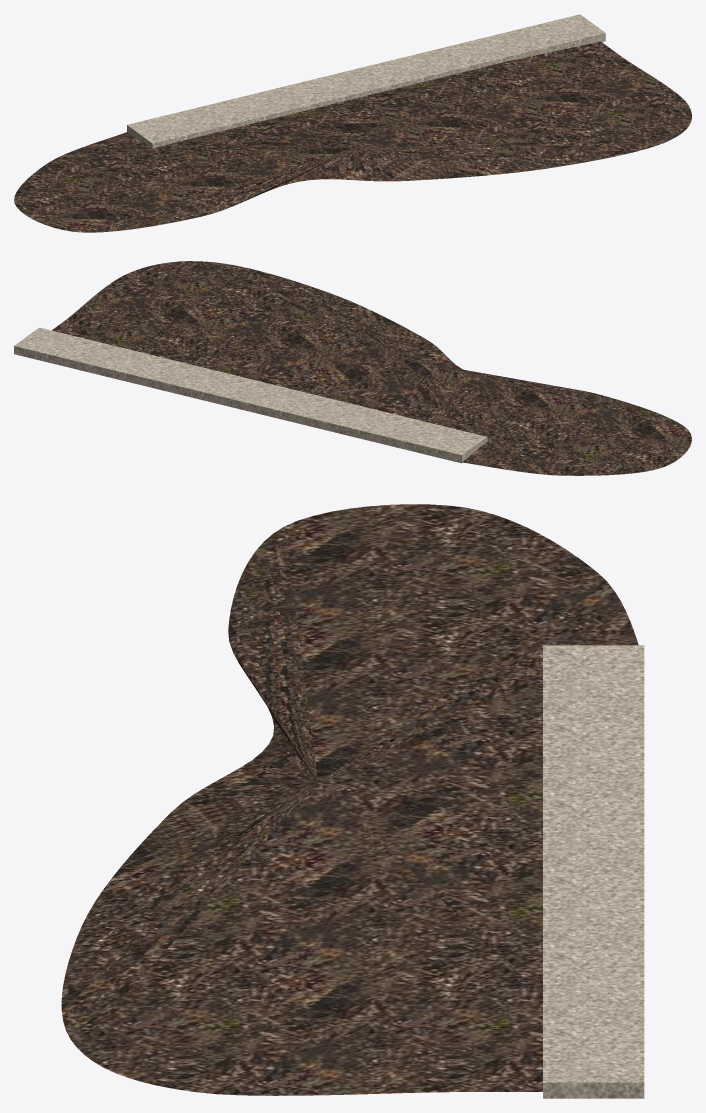
File: SM_Yard_FlowerBed.fbx
3 renders of one model, top to bottom at view 1: azimuth 30°, elevation 25°; view 2: azimuth 150°, elevation 25°; view 3: azimuth 270°, elevation 25°, orthographic. The views are drawn at different scales.
Parts seen in each view (by area): view 1: SM_Yard_FlowerBed; view 2: SM_Yard_FlowerBed; view 3: SM_Yard_FlowerBed.
Boxes of the visible parts, x1=… form: SM_Yard_FlowerBed: x1=14, y1=14, x2=691, y2=232; SM_Yard_FlowerBed: x1=14, y1=261, x2=691, y2=475; SM_Yard_FlowerBed: x1=61, y1=504, x2=644, y2=1098.
Size of the model in its own units: 6.23 by 0.1 by 2.59.
2 materials, 2 textured.
